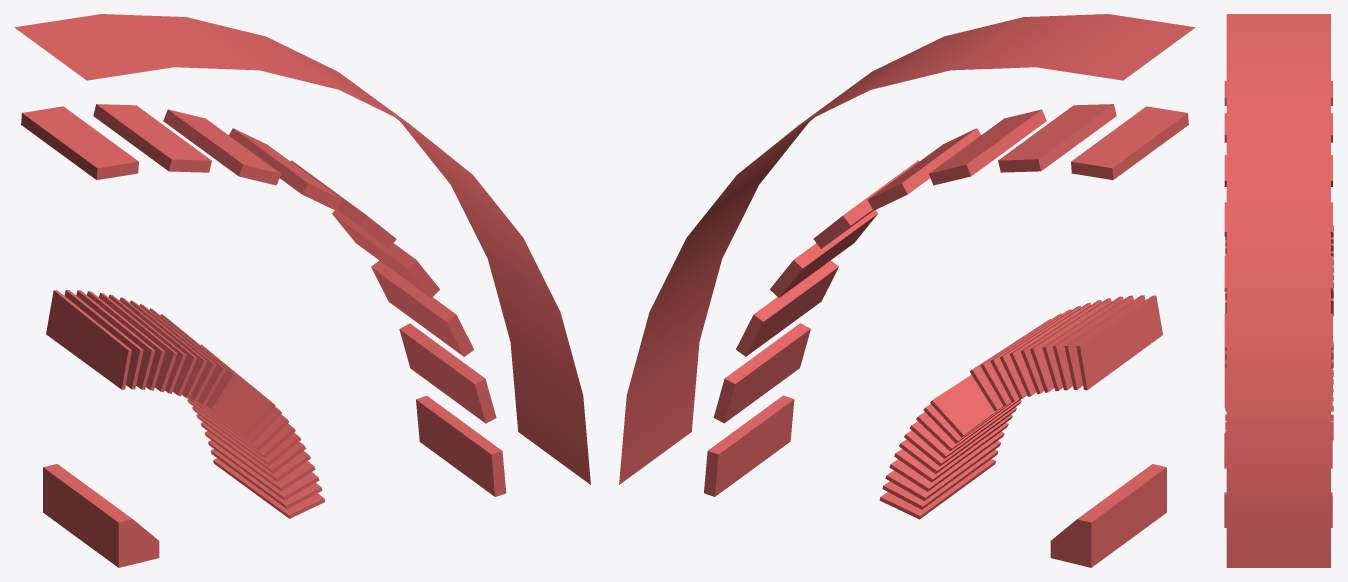
The model's file is Curve4Color_New.fbx.
The picture shows the model from 3 angles, left to right: view 1: azimuth 30°, elevation 25°; view 2: azimuth 150°, elevation 25°; view 3: azimuth 270°, elevation 25°; orthographic projection. The views are drawn at different scales.
Visible parts, largest first — view 1: polySurface482; view 2: polySurface482; view 3: polySurface482.
Boxes of the visible parts, x1,y1,x2,y2 form: polySurface482: (14,14,590,567); polySurface482: (619,14,1195,567); polySurface482: (1224,14,1333,567).
Size of the model in its own units: 3.93 by 3.93 by 1.03.
